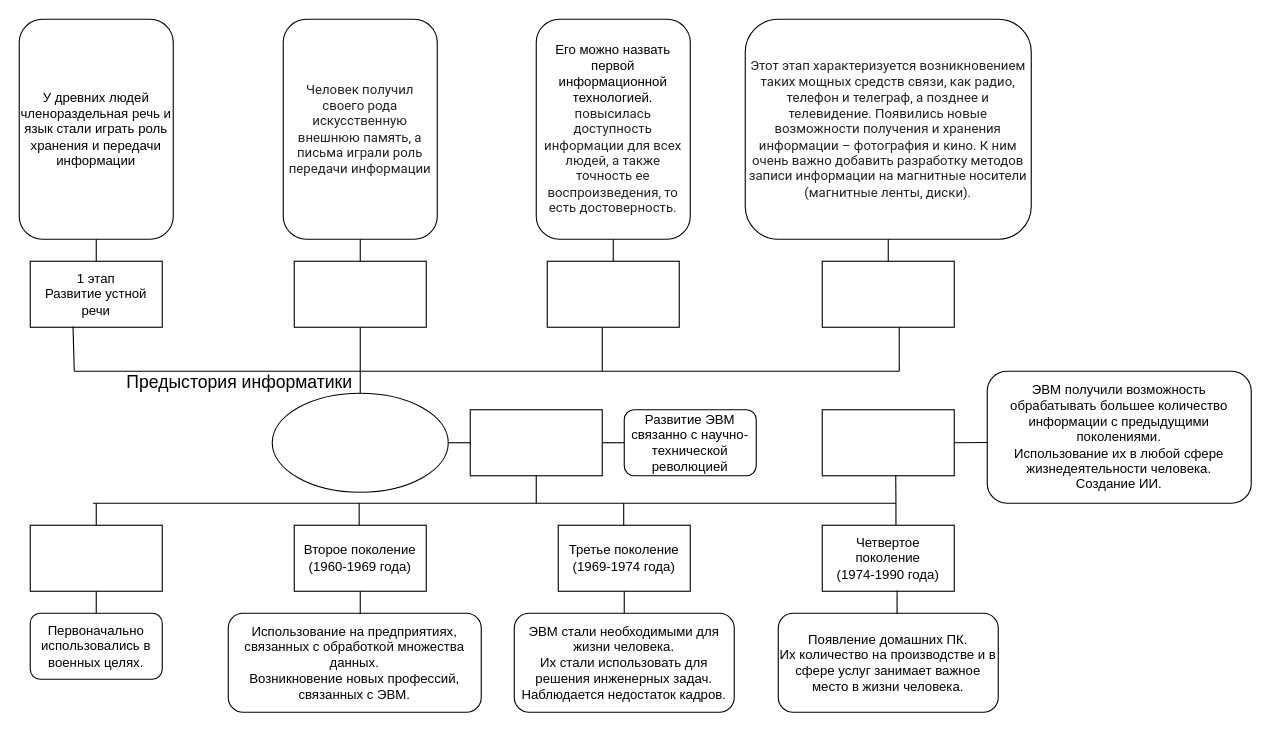
Image size: 1271x732. Some labels were removed from this diagram. The shapes that lost their labels are listed below. From the top down, each one's centre as x and y in pixels, then its label:
At [359,293]: "2 этап Появление письменности".
At [612,293]: "3 этап Книгопечатание".
At [887,293]: "4 этап Научно-техническая революция".
At [359,442]: "Этапы в истории развития информатики и их социальные последствия".
At [535,442]: "Развитие ЭВМ".
At [887,442]: "Пятое поколение (наши дни)".
At [95,557]: "Первое поколение (1946-1959 года)".
